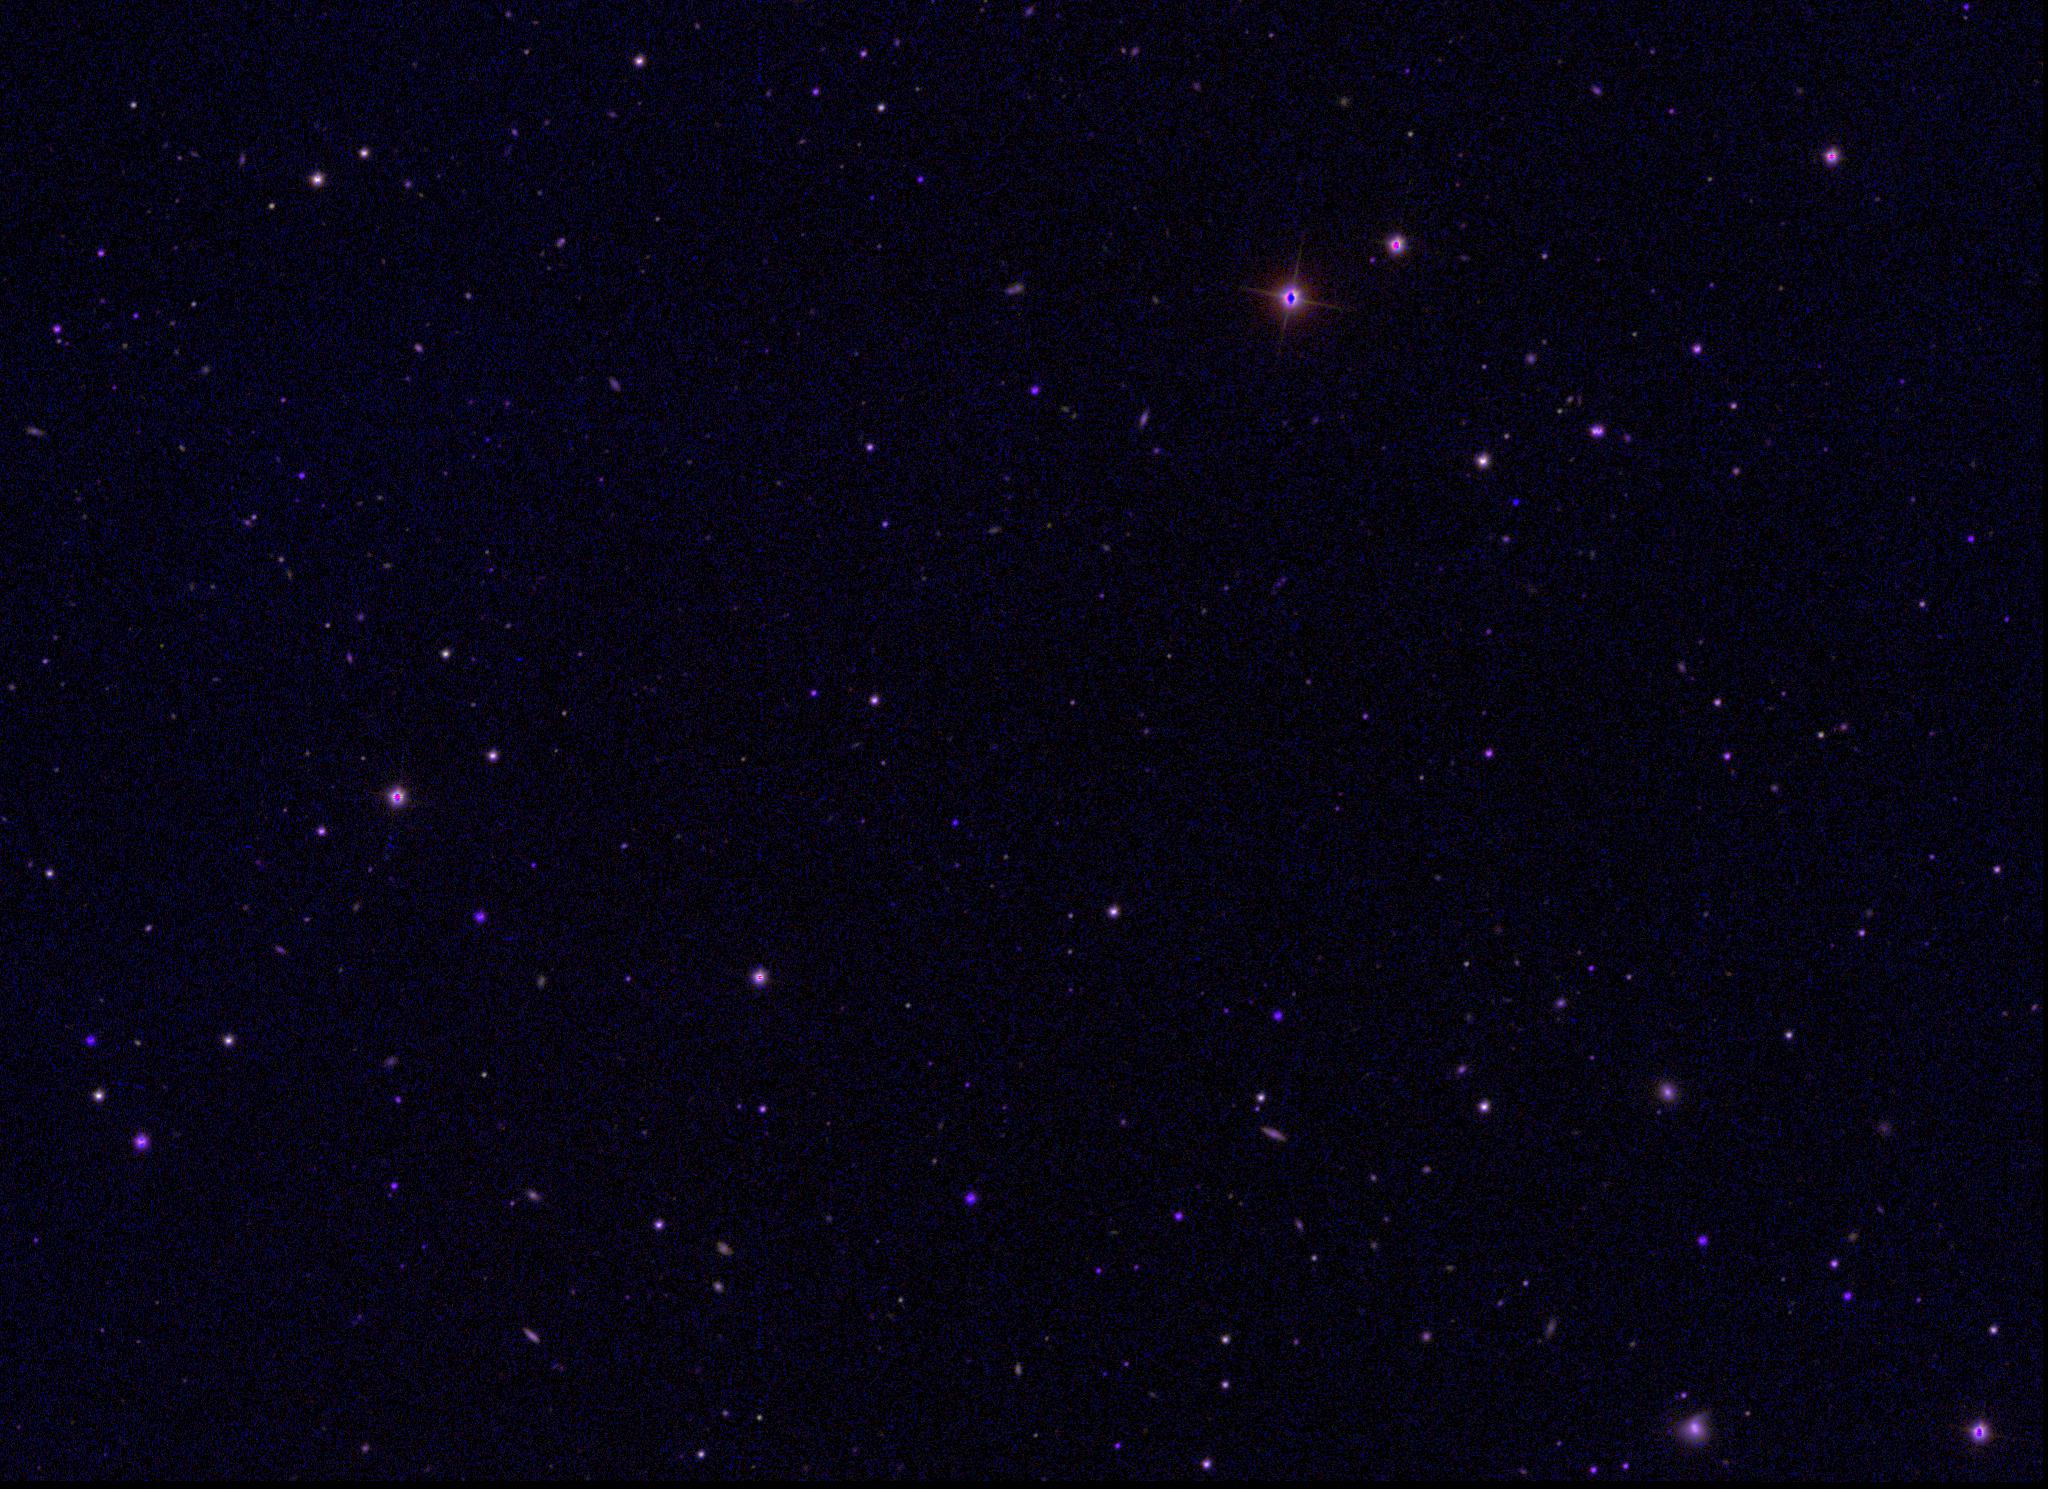L: (1507, 495, 1522, 507)
